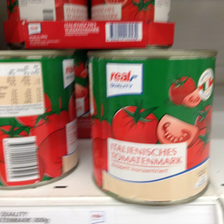tomato_sauce: (87, 48, 217, 207), (1, 49, 80, 189)
